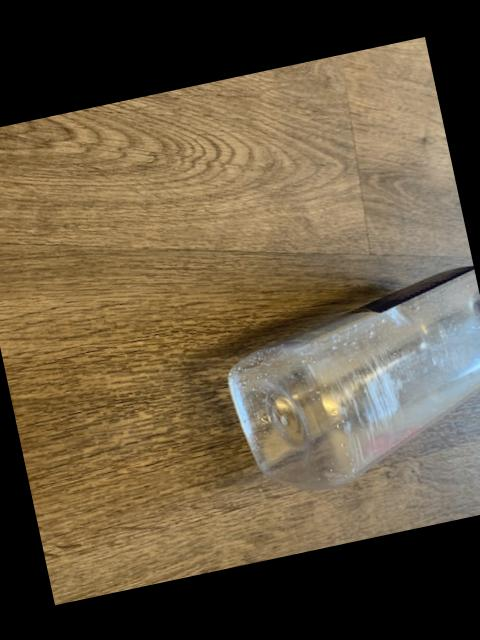plastic: (230, 266, 480, 489)
